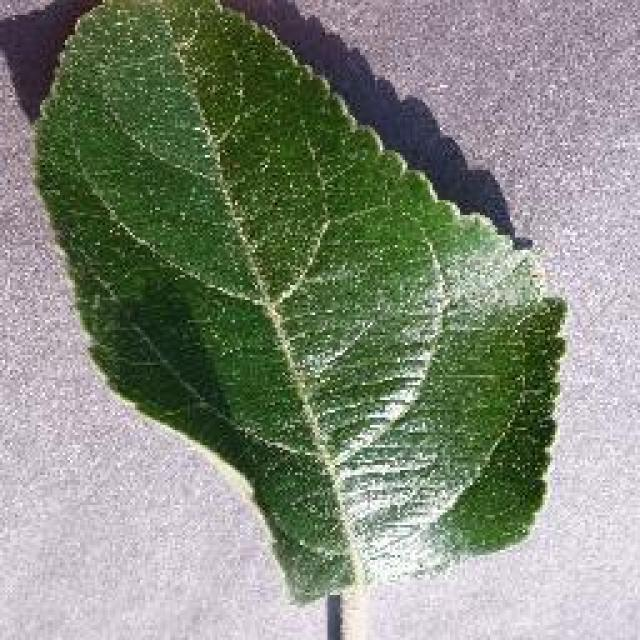apple healthy: (28, 0, 570, 608)
